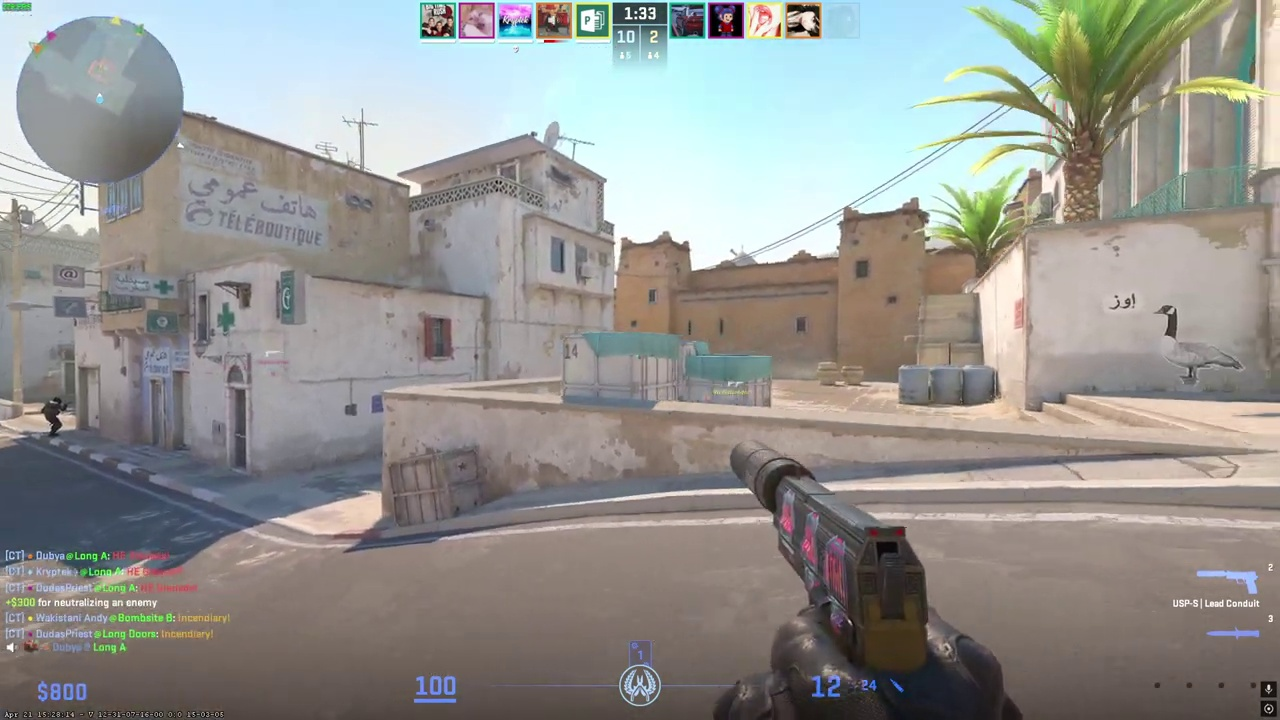CT: (43, 397, 66, 437)
